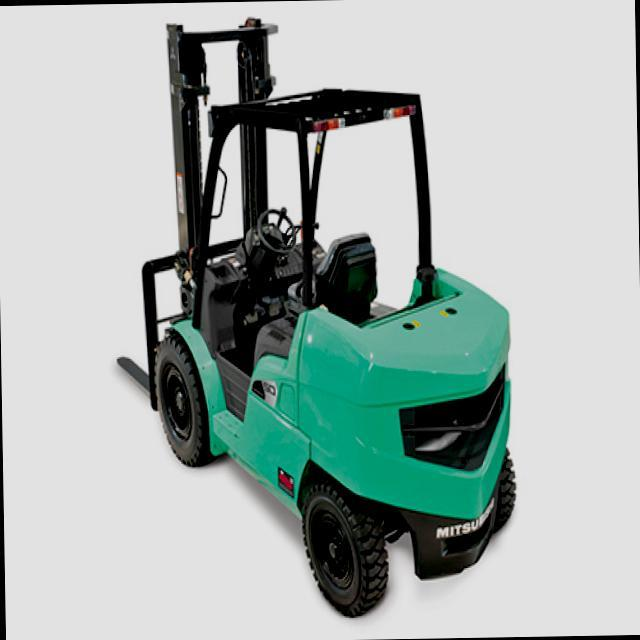forklift: (141, 2, 530, 629)
